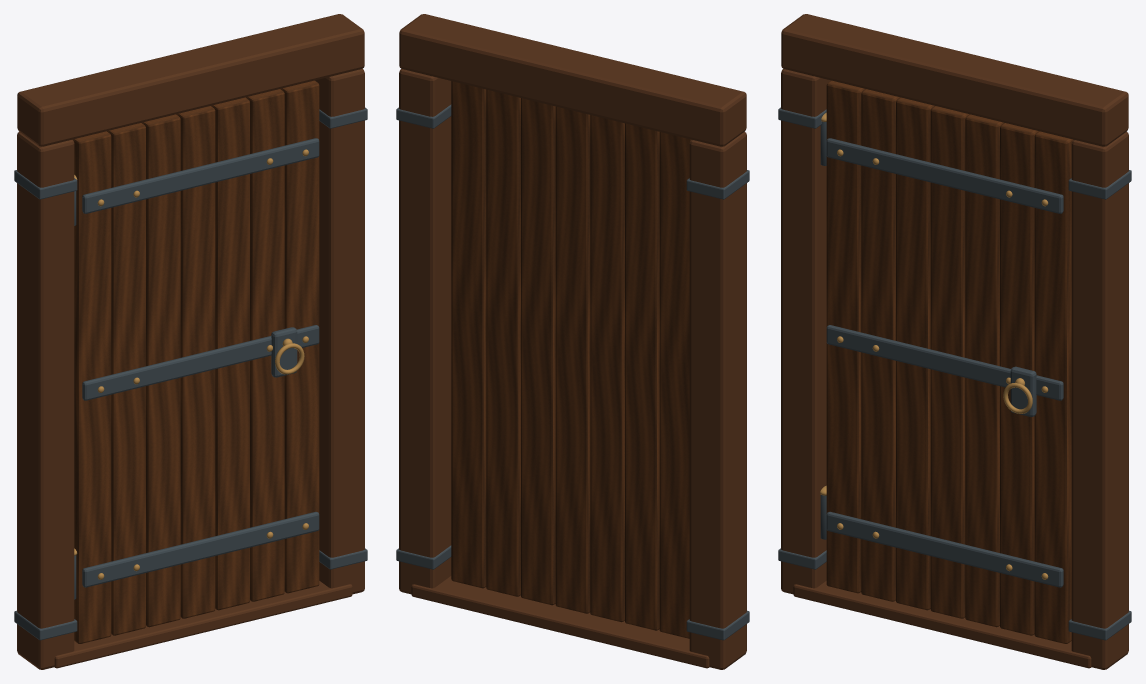
The model's file is Door.glb.
3 views of the same model, side by side, from view 1: azimuth 30°, elevation 25°; view 2: azimuth 150°, elevation 25°; view 3: azimuth 330°, elevation 25° (orthographic).
Parts seen in each view (by area): view 1: Separate_Frame_Post, Separate_Frame_Post.001, Separate_Frame_Header, Door_Vertical_Plank, Door_Vertical_Plank.003, Door_Vertical_Plank.006, Door_Vertical_Plank.001, Door_Vertical_Plank.004, Door_Vertical_Plank.002, Door_Vertical_Plank.005, Separate_Frame_Threshold, Door_Iron_Strap.002 (+7 smaller); view 2: Separate_Frame_Post, Separate_Frame_Post.001, Separate_Frame_Header, Door_Vertical_Plank.003, Door_Vertical_Plank.006, Door_Vertical_Plank.005, Door_Vertical_Plank.001, Door_Vertical_Plank.002, Door_Vertical_Plank.004, Door_Vertical_Plank, Separate_Frame_Threshold, Frame_Iron_Band (+3 smaller); view 3: Separate_Frame_Post.001, Separate_Frame_Post, Separate_Frame_Header, Door_Vertical_Plank.006, Door_Vertical_Plank, Door_Vertical_Plank.003, Door_Vertical_Plank.001, Door_Vertical_Plank.002, Door_Vertical_Plank.004, Door_Vertical_Plank.005, Separate_Frame_Threshold, Door_Iron_Strap.002 (+7 smaller).
Boxes of the visible parts, <box> form: Separate_Frame_Post: <box>17,132,74,669</box>; Separate_Frame_Post.001: <box>315,69,364,594</box>; Separate_Frame_Header: <box>17,14,364,146</box>; Door_Vertical_Plank: <box>73,131,111,643</box>; Door_Vertical_Plank.003: <box>176,106,215,618</box>; Door_Vertical_Plank.006: <box>280,80,319,593</box>; Door_Vertical_Plank.001: <box>107,123,145,635</box>; Door_Vertical_Plank.004: <box>211,97,249,610</box>; Door_Vertical_Plank.002: <box>141,114,180,627</box>; Door_Vertical_Plank.005: <box>246,89,284,601</box>; Separate_Frame_Threshold: <box>54,581,352,668</box>; Door_Iron_Strap.002: <box>82,138,319,213</box>; Separate_Frame_Post: <box>689,132,746,669</box>; Separate_Frame_Post.001: <box>399,69,451,594</box>; Separate_Frame_Header: <box>399,14,746,146</box>; Door_Vertical_Plank.003: <box>555,106,590,613</box>; Door_Vertical_Plank.006: <box>451,81,486,588</box>; Door_Vertical_Plank.005: <box>486,89,520,596</box>; Door_Vertical_Plank.001: <box>625,123,659,630</box>; Door_Vertical_Plank.002: <box>590,115,624,622</box>; Door_Vertical_Plank.004: <box>521,98,555,605</box>; Door_Vertical_Plank: <box>659,132,690,638</box>; Separate_Frame_Threshold: <box>411,576,709,668</box>; Frame_Iron_Band: <box>686,610,749,640</box>; Separate_Frame_Post.001: <box>1071,132,1128,669</box>; Separate_Frame_Post: <box>781,69,830,594</box>; Separate_Frame_Header: <box>781,14,1128,146</box>; Door_Vertical_Plank.006: <box>1034,131,1072,643</box>; Door_Vertical_Plank: <box>826,80,865,593</box>; Door_Vertical_Plank.003: <box>930,106,969,618</box>; Door_Vertical_Plank.001: <box>861,89,899,601</box>; Door_Vertical_Plank.002: <box>896,97,934,610</box>; Door_Vertical_Plank.004: <box>965,114,1004,627</box>; Door_Vertical_Plank.005: <box>1000,123,1038,635</box>; Separate_Frame_Threshold: <box>793,581,1091,668</box>; Door_Iron_Strap.002: <box>826,138,1063,213</box>.
Bounding box in the file's own units: 1.38 × 2.26 × 0.239.
Materials: 4 (1 with a texture image).
